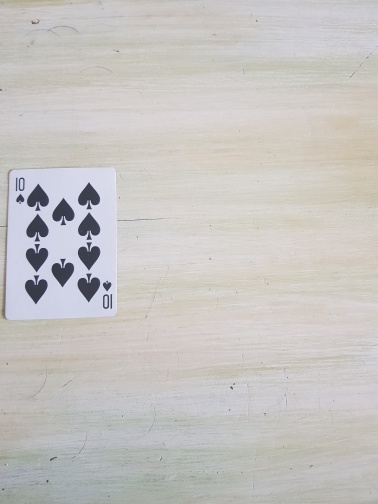ten: (3, 166, 119, 322)
